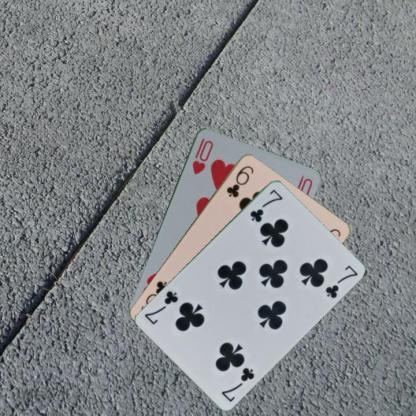10h: (189, 135, 214, 176)
6c: (223, 162, 254, 199)
7c: (218, 364, 256, 402), (247, 186, 284, 223)
